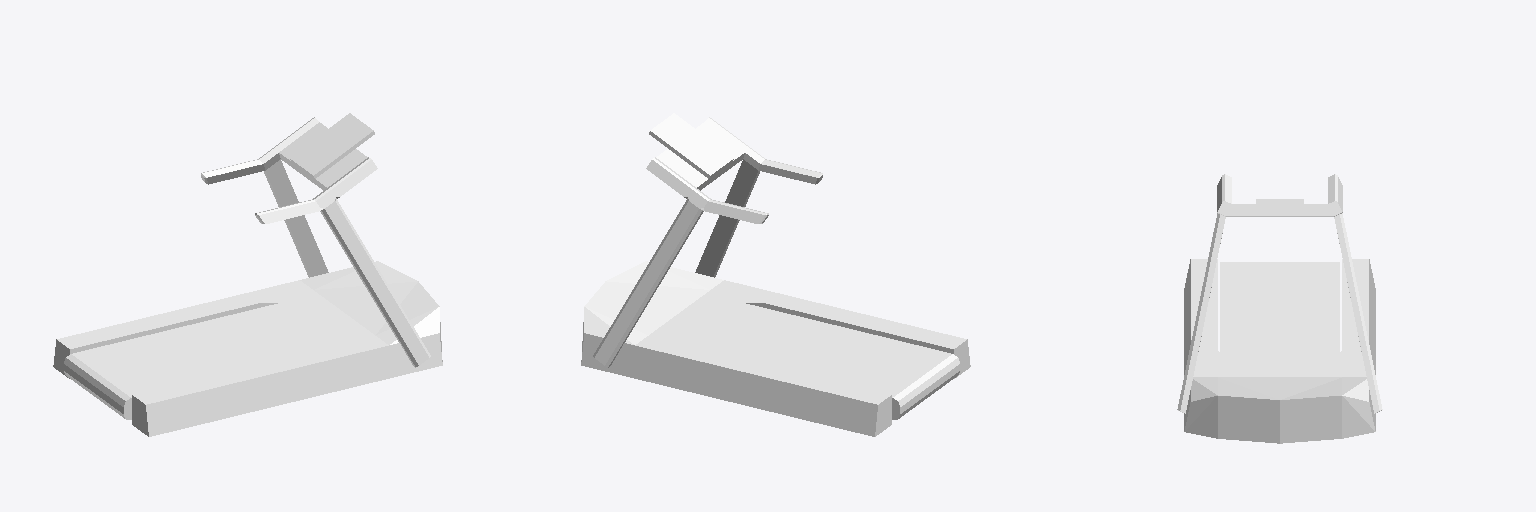
The model's file is treadmill.obj.
3 renders of one model, left to right at view 1: azimuth 30°, elevation 25°; view 2: azimuth 150°, elevation 25°; view 3: azimuth 270°, elevation 25°, orthographic.
Visible parts, largest first — view 1: treadmill; view 2: treadmill; view 3: treadmill.
Part boxes in pixels (left/top/right/bottom): treadmill: left=53, top=113, right=442, bottom=436; treadmill: left=581, top=113, right=970, bottom=436; treadmill: left=1177, top=174, right=1382, bottom=443.
Size of the model in its own units: 294 by 187 by 161.